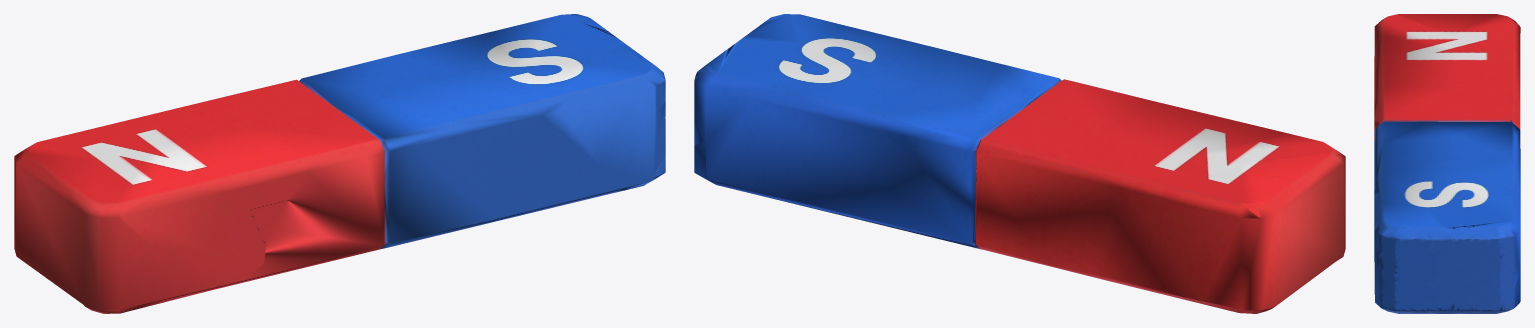
File: Bar_Magnet.glb
3 views of the same model, side by side, from view 1: azimuth 30°, elevation 25°; view 2: azimuth 150°, elevation 25°; view 3: azimuth 270°, elevation 25° (orthographic). The views are drawn at different scales.
Parts seen in each view (by area): view 1: mesh_node; view 2: mesh_node; view 3: mesh_node.
Part boxes in pixels (x1=…): mesh_node: x1=14, y1=14, x2=665, y2=313; mesh_node: x1=694, y1=14, x2=1345, y2=313; mesh_node: x1=1374, y1=14, x2=1520, y2=313.
Size of the model in its own units: 1.9 by 0.3471 by 0.5317.
Materials: 1 (1 with a texture image).
